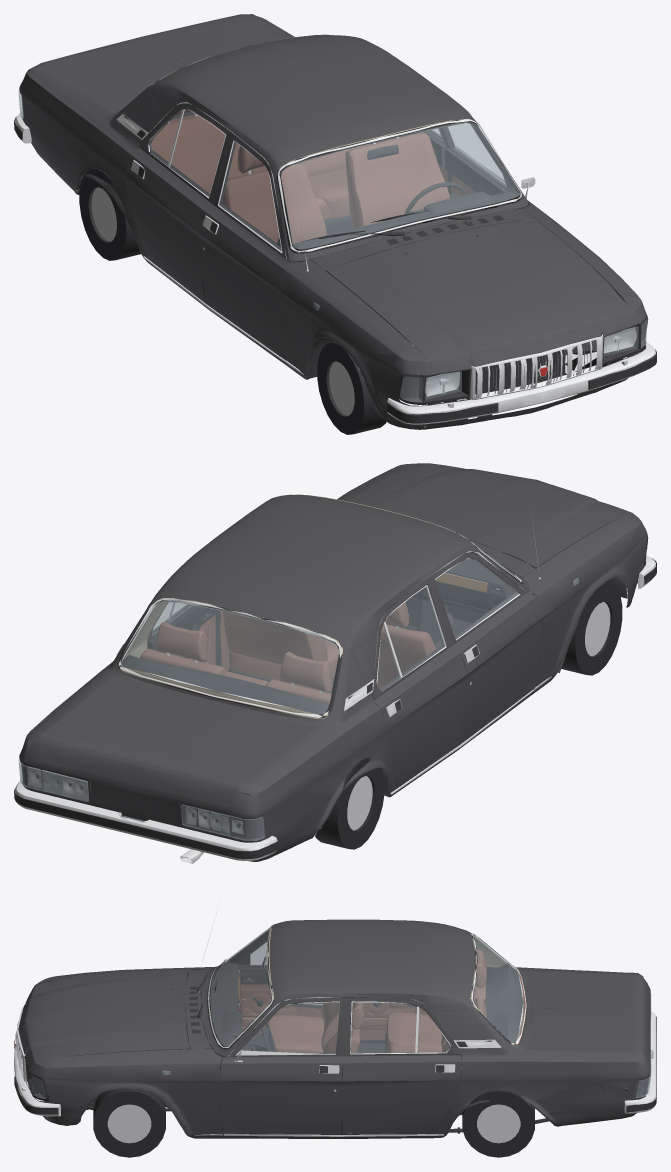
Rendered from volga.gltf.
3 renders of one model, top to bottom at view 1: azimuth 30°, elevation 25°; view 2: azimuth 150°, elevation 25°; view 3: azimuth 270°, elevation 25°, orthographic. The views are drawn at different scales.
Parts seen in each view (by area): view 1: Body, Wheel_FR, Wheel_RR; view 2: Body, Wheel_RR, Wheel_FR; view 3: Body, Wheel_FL, Wheel_RL.
Boxes of the visible parts, <box> form: Body: <box>14,14,656,429</box>; Wheel_FR: <box>317,342,386,434</box>; Wheel_RR: <box>79,168,140,260</box>; Body: <box>14,463,656,863</box>; Wheel_RR: <box>315,757,384,849</box>; Wheel_FR: <box>561,582,622,675</box>; Body: <box>14,912,656,1138</box>; Wheel_FL: <box>93,1088,165,1157</box>; Wheel_RL: <box>462,1089,534,1157</box>.
Bounding box in the file's own units: 1.88 × 1.45 × 4.96.
